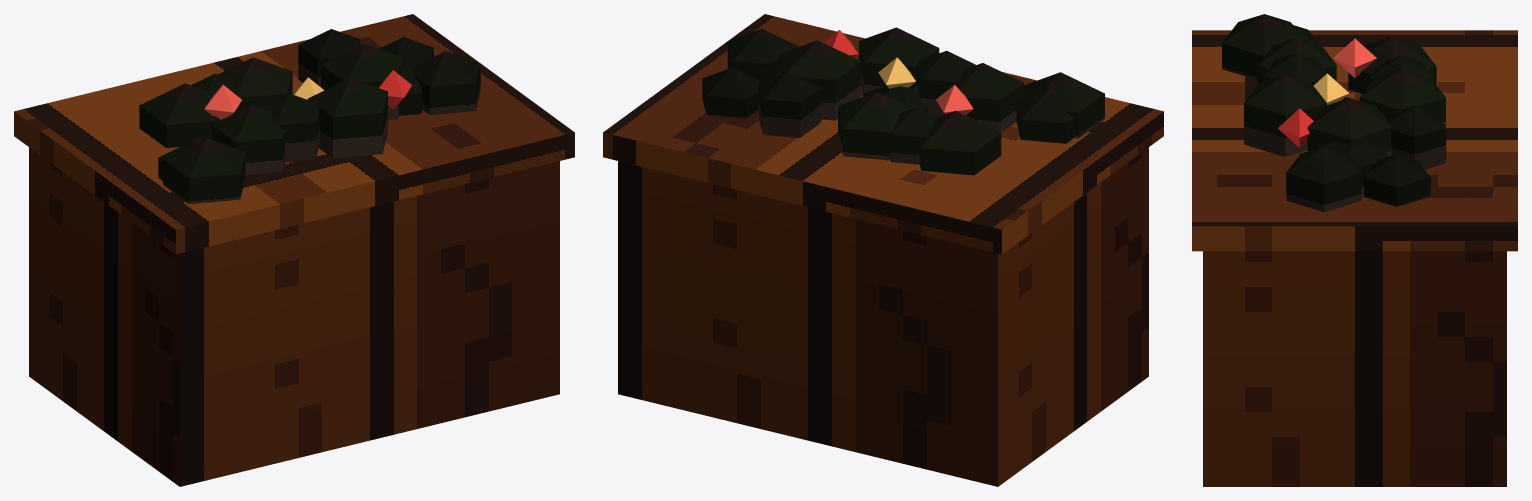
File: coal_bin.glb
3 views of the same model, side by side, from view 1: azimuth 30°, elevation 25°; view 2: azimuth 150°, elevation 25°; view 3: azimuth 270°, elevation 25° (orthographic).
Visible parts, largest first — view 1: coal_bin; view 2: coal_bin; view 3: coal_bin.
Boxes of the visible parts, left/top/right/bottom form: coal_bin: left=14, top=14, right=574, bottom=486; coal_bin: left=603, top=14, right=1163, bottom=486; coal_bin: left=1192, top=14, right=1517, bottom=486.
Bounding box in the file's own units: 0.84 × 0.6587 × 0.59.
Materials: 3 (2 with a texture image).
